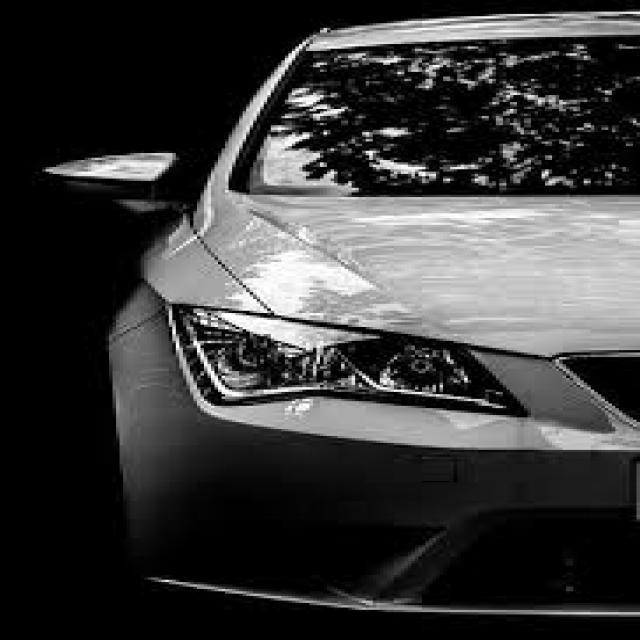Headlight-Damage: (99, 298, 538, 456)
